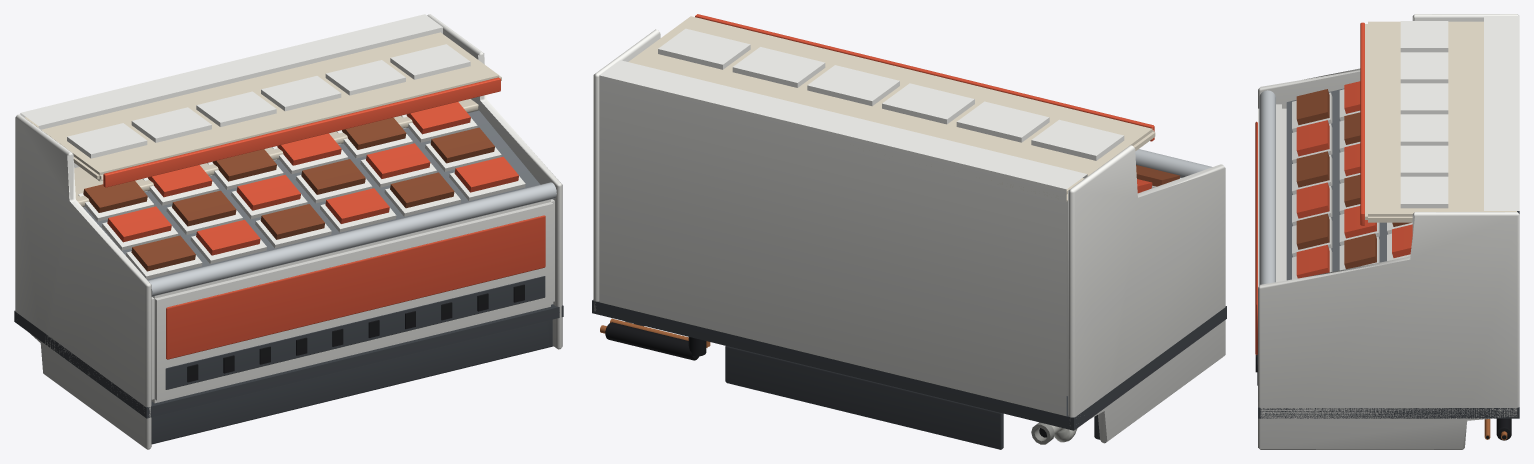
File: SelfServe_Meat_20_Stocked.glb
3 views of the same model, side by side, from view 1: azimuth 30°, elevation 25°; view 2: azimuth 150°, elevation 25°; view 3: azimuth 270°, elevation 25° (orthographic). The views are drawn at different scales.
Parts seen in each view (by area): view 1: SM_SelfServe_Meat_20_Stocked; view 2: SM_SelfServe_Meat_20_Stocked; view 3: SM_SelfServe_Meat_20_Stocked.
Boxes of the visible parts, x1,y1,x2,y2 form: SM_SelfServe_Meat_20_Stocked: [14, 14, 563, 449]; SM_SelfServe_Meat_20_Stocked: [592, 14, 1226, 449]; SM_SelfServe_Meat_20_Stocked: [1255, 14, 1519, 449].
Size of the model in its own units: 2 by 1.1 by 1.11.
1 material, 1 textured.
